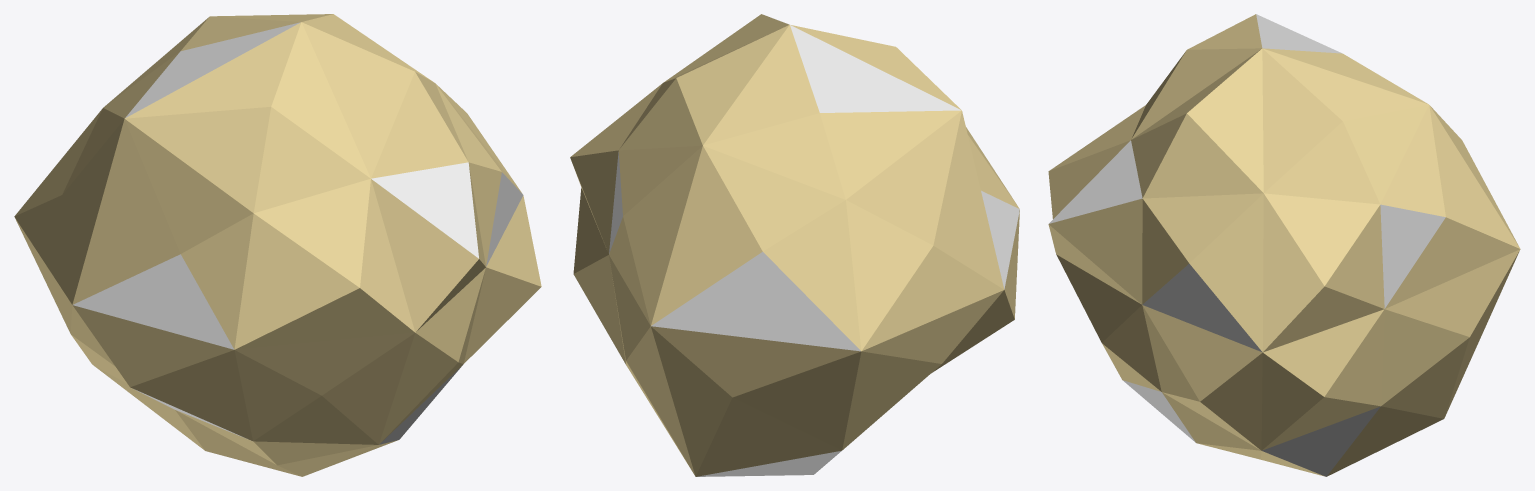
The model's file is asteroid.fbx.
3 renders of one model, left to right at view 1: azimuth 30°, elevation 25°; view 2: azimuth 150°, elevation 25°; view 3: azimuth 270°, elevation 25°, orthographic. The views are drawn at different scales.
Visible parts, largest first — view 1: Cube; view 2: Cube; view 3: Cube.
Part boxes in pixels (<box>): Cube: <box>14,14,541,476</box>; Cube: <box>570,14,1019,476</box>; Cube: <box>1048,14,1520,476</box>.
Bounding box in the file's own units: 379 × 365 × 379.
